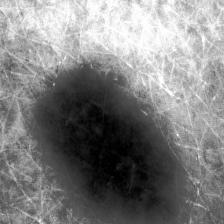Benign Marking or Mole: (36, 64, 178, 223)
